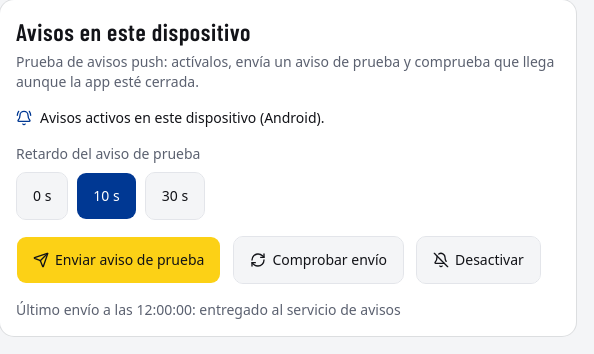
PushCard › con una suscripción previa la vuelve a registrar en la API y permite desactivarla
Expected: the text "Avisos activos en este dispositivo (Android)." is shown, [16,108,324,127]
Expected: the text "Último envío a las 12:00:00: entregado al servicio de avisos" is shown, [16,300,401,319]
Click the button "Desactivar" at (478, 260), box [416,236,541,284]
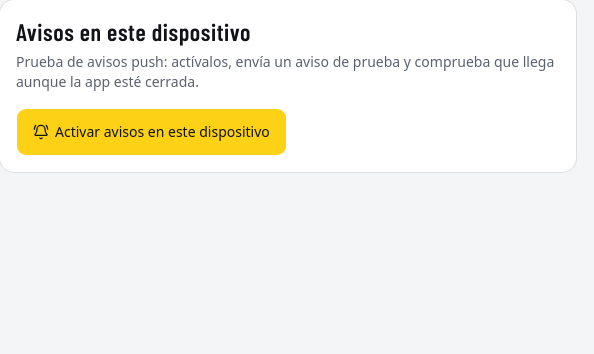
Expected: the button "Activar avisos en este dispositivo" is shown, [16,108,287,156]
